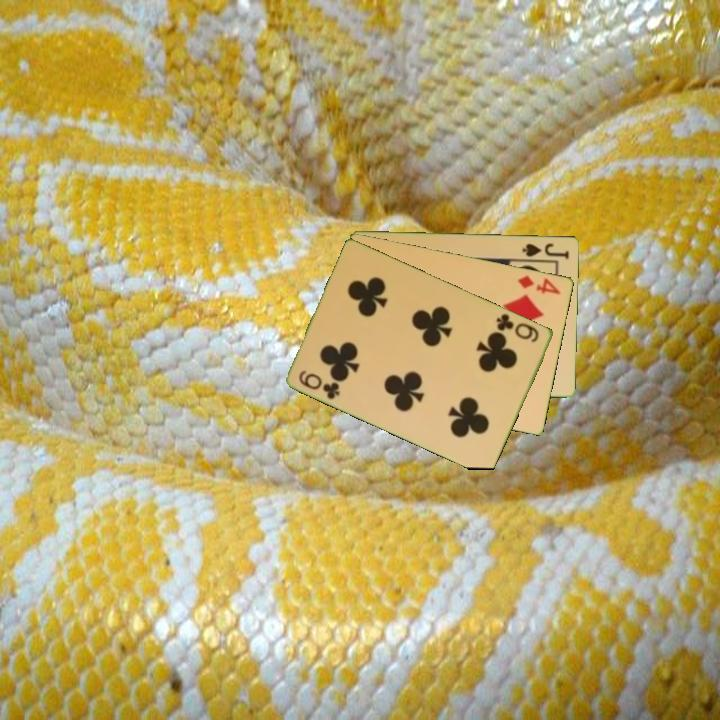4d: (514, 272, 564, 297)
6c: (295, 366, 343, 402), (493, 310, 542, 345)
Js: (519, 239, 572, 262)
